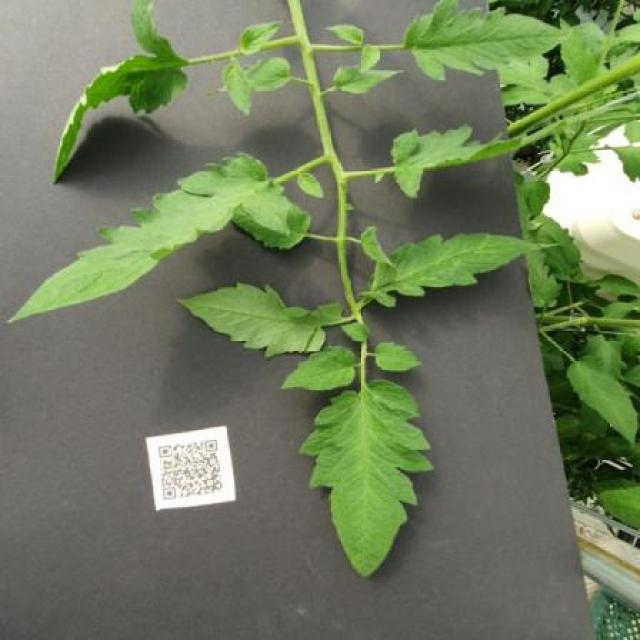Healthy: (8, 153, 291, 324), (299, 380, 434, 579), (52, 0, 182, 184), (359, 232, 564, 308), (391, 120, 566, 200), (402, 0, 574, 81), (178, 283, 345, 358), (281, 345, 356, 391)
